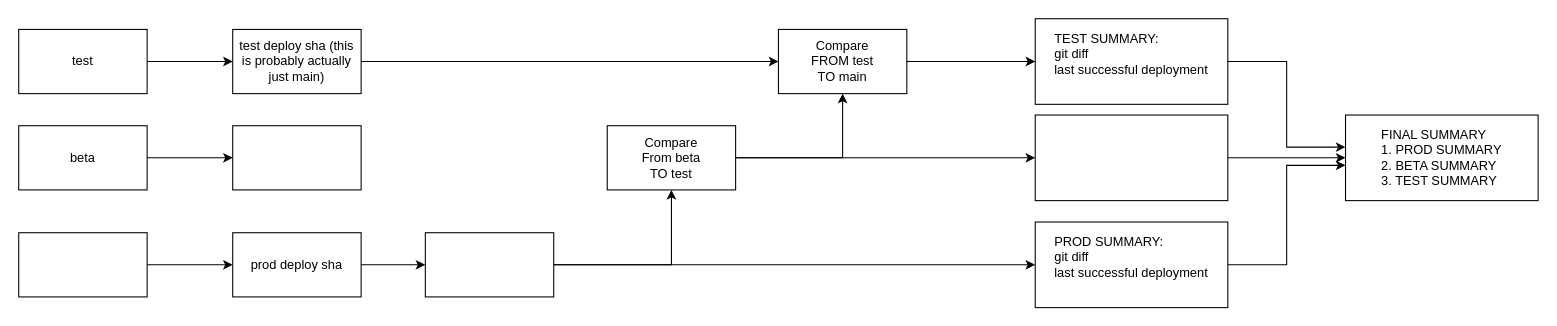
This 1557x326 diagram has some shape labels left out. Here are the shapes that lost their labels. From the top down, the box of each, then its label:
(232, 125, 361, 190): beta deploy sha
(1034, 114, 1228, 201): BETA SUMMARY: git diff last successful deployment
(18, 232, 147, 297): prod
(424, 232, 554, 297): Compare FROM prod TO beta
